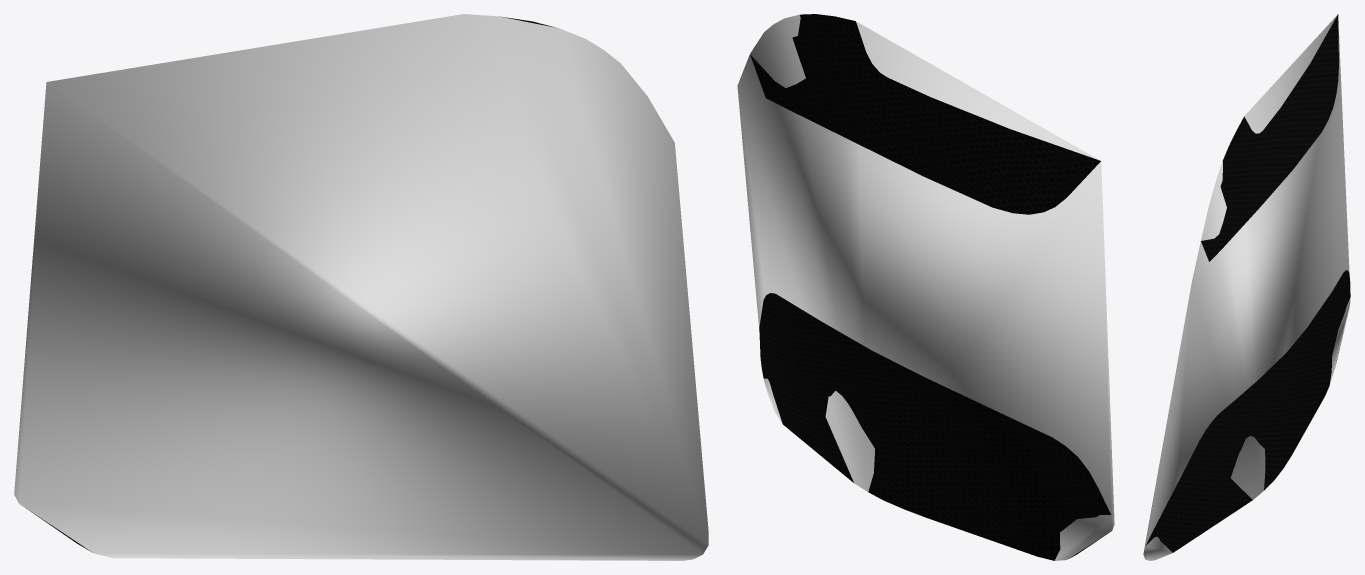
The picture shows the model from 3 angles, left to right: view 1: azimuth 30°, elevation 25°; view 2: azimuth 150°, elevation 25°; view 3: azimuth 270°, elevation 25°; orthographic projection. The views are drawn at different scales.
Visible parts, largest first — view 1: grille_eclipse_tail_r_01_col; view 2: grille_eclipse_tail_r_01_col, grille_eclipse_tail_r_01; view 3: grille_eclipse_tail_r_01_col, grille_eclipse_tail_r_01.
Boxes of the visible parts, x1,y1,x2,y2 form: grille_eclipse_tail_r_01_col: (14, 14, 708, 560); grille_eclipse_tail_r_01_col: (737, 14, 1114, 560); grille_eclipse_tail_r_01: (750, 14, 1110, 560); grille_eclipse_tail_r_01_col: (1143, 14, 1350, 560); grille_eclipse_tail_r_01: (1146, 14, 1350, 552).
Size of the model in its own units: 0.3961 by 0.3703 by 0.1786.
Materials: 1 (1 with a texture image).
